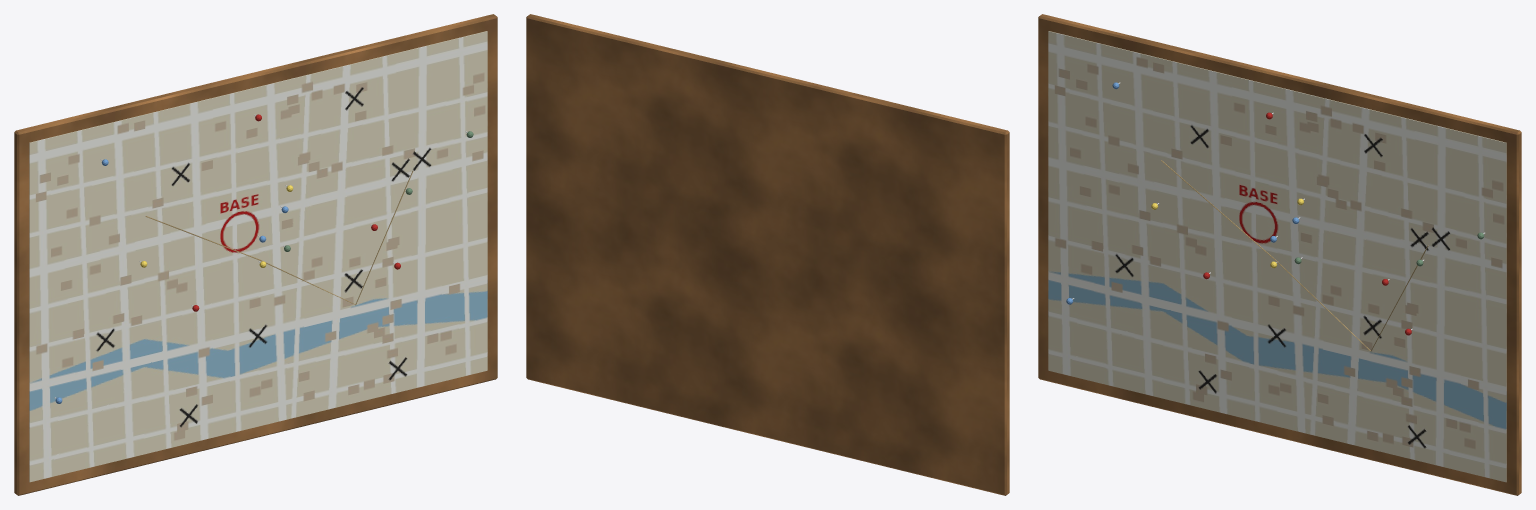
Rendered from mapa_alfinetes.glb.
3 renders of one model, left to right at view 1: azimuth 30°, elevation 25°; view 2: azimuth 150°, elevation 25°; view 3: azimuth 330°, elevation 25°, orthographic.
Parts seen in each view (by area): view 1: mapa_alfinetes_mapa_parede, mapa_alfinetes_cortica, mapa_alfinetes_corda; view 2: mapa_alfinetes_cortica; view 3: mapa_alfinetes_mapa_parede, mapa_alfinetes_cortica, mapa_alfinetes_corda.
Boxes of the visible parts, x1,y1,x2,y2 form: mapa_alfinetes_mapa_parede: [29, 31, 487, 482]; mapa_alfinetes_cortica: [14, 14, 497, 495]; mapa_alfinetes_corda: [145, 171, 413, 304]; mapa_alfinetes_cortica: [526, 14, 1009, 495]; mapa_alfinetes_mapa_parede: [1048, 31, 1506, 482]; mapa_alfinetes_cortica: [1038, 14, 1521, 495]; mapa_alfinetes_corda: [1161, 160, 1428, 351].
Size of the model in its own units: 1.26 by 0.91 by 0.048.
8 materials, 3 textured.
